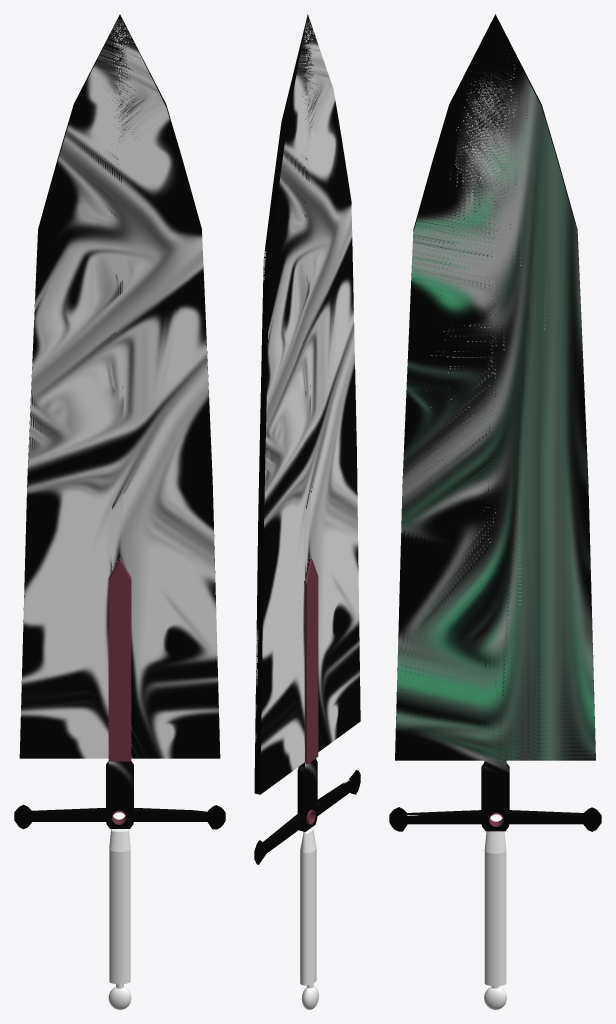
Rendered from fourth.fbx.
3 renders of one model, left to right at view 1: azimuth 90°, elevation 25°; view 2: azimuth 150°, elevation 25°; view 3: azimuth 270°, elevation 25°, orthographic.
Visible parts, largest first — view 1: Cylinder.002; view 2: Cylinder.002; view 3: Cylinder.002.
Boxes of the visible parts, box(x1,y1,x2,y2) form: Cylinder.002: box(14, 14, 225, 1009); Cylinder.002: box(254, 14, 360, 1009); Cylinder.002: box(389, 14, 601, 1009).
Bounding box in the file's own units: 149 × 9622 × 1855.
